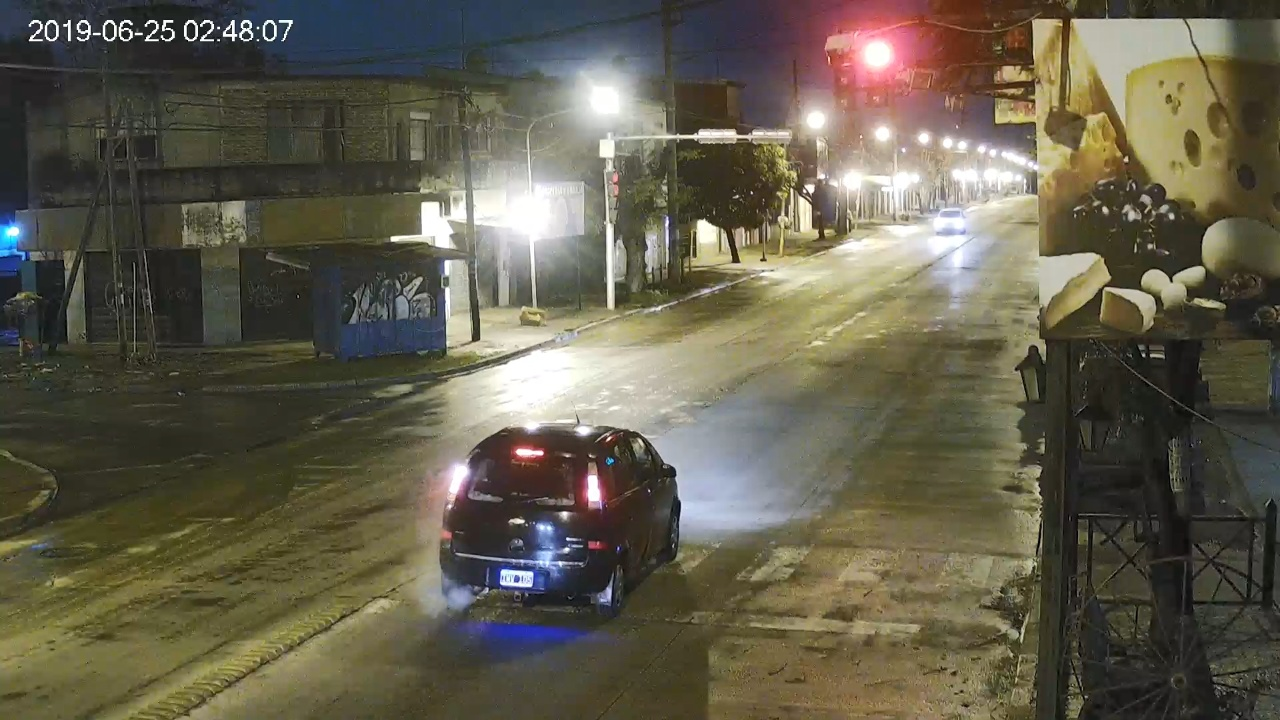car: (441, 423, 681, 615)
traffic light: (868, 40, 888, 102)
